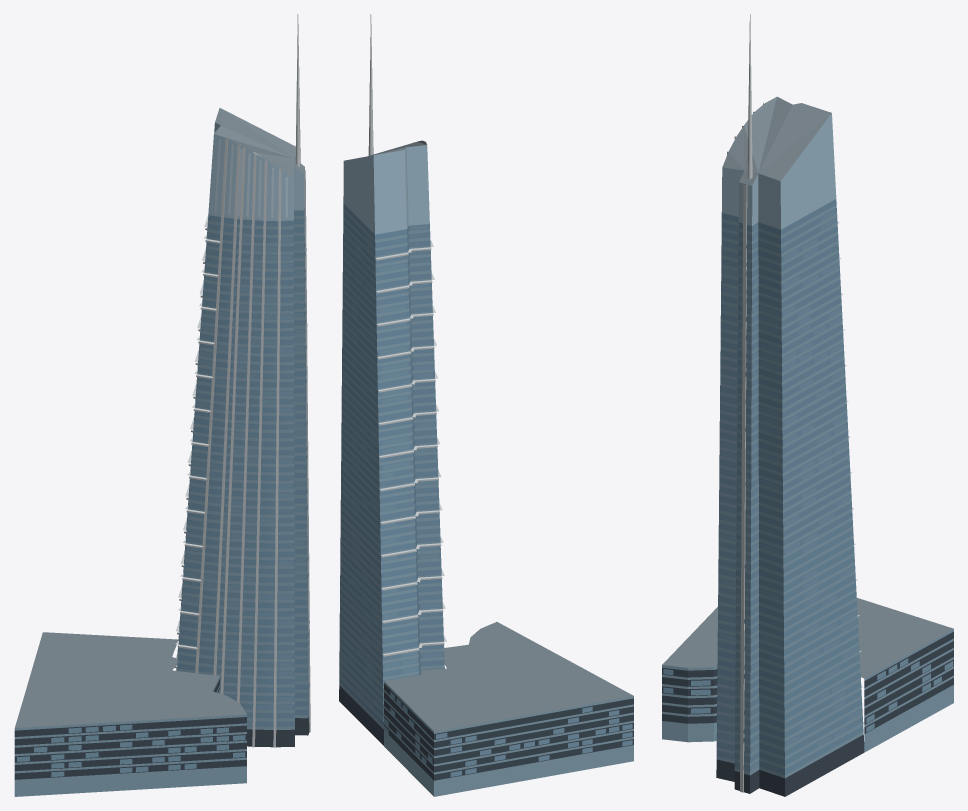
The model's file is wilshire-grand-center-far.glb.
3 views of the same model, side by side, from view 1: azimuth 30°, elevation 25°; view 2: azimuth 150°, elevation 25°; view 3: azimuth 270°, elevation 25° (orthographic). The views are drawn at different scales.
Parts seen in each view (by area): view 1: wilshire-grand-center-0-glass, wilshire-grand-center-0-spandrel, wilshire-grand-center-0-roof, wilshire-grand-center-0-fin, wilshire-grand-center-0-pglass, wilshire-grand-center-0-glow, wilshire-grand-center-0-crown, wilshire-grand-center-0-light; view 2: wilshire-grand-center-0-glass, wilshire-grand-center-0-spandrel, wilshire-grand-center-0-roof, wilshire-grand-center-0-pglass, wilshire-grand-center-0-glow, wilshire-grand-center-0-crown, wilshire-grand-center-0-fin; view 3: wilshire-grand-center-0-glass, wilshire-grand-center-0-spandrel, wilshire-grand-center-0-roof, wilshire-grand-center-0-glow, wilshire-grand-center-0-pglass, wilshire-grand-center-0-crown, wilshire-grand-center-0-fin.
Boxes of the visible parts, x1,y1,x2,y2 form: wilshire-grand-center-0-glass: (176,208,308,726); wilshire-grand-center-0-spandrel: (14,214,308,796); wilshire-grand-center-0-roof: (15,108,304,727); wilshire-grand-center-0-fin: (175,14,310,747); wilshire-grand-center-0-pglass: (14,679,309,779); wilshire-grand-center-0-glow: (17,218,309,776); wilshire-grand-center-0-crown: (208,122,305,220); wilshire-grand-center-0-light: (214,139,288,217); wilshire-grand-center-0-glass: (339,203,444,726); wilshire-grand-center-0-spandrel: (339,209,633,796); wilshire-grand-center-0-roof: (368,140,633,731); wilshire-grand-center-0-pglass: (339,684,633,780); wilshire-grand-center-0-glow: (339,225,632,776); wilshire-grand-center-0-crown: (343,145,429,234); wilshire-grand-center-0-fin: (368,14,446,687); wilshire-grand-center-0-glass: (716,199,863,774); wilshire-grand-center-0-spandrel: (662,204,953,778); wilshire-grand-center-0-roof: (662,96,953,678); wilshire-grand-center-0-glow: (663,210,953,771); wilshire-grand-center-0-pglass: (662,631,953,796); wilshire-grand-center-0-crown: (721,113,836,229); wilshire-grand-center-0-fin: (727,14,864,792).
Bounding box in the file's own units: 146 × 335 × 115.
